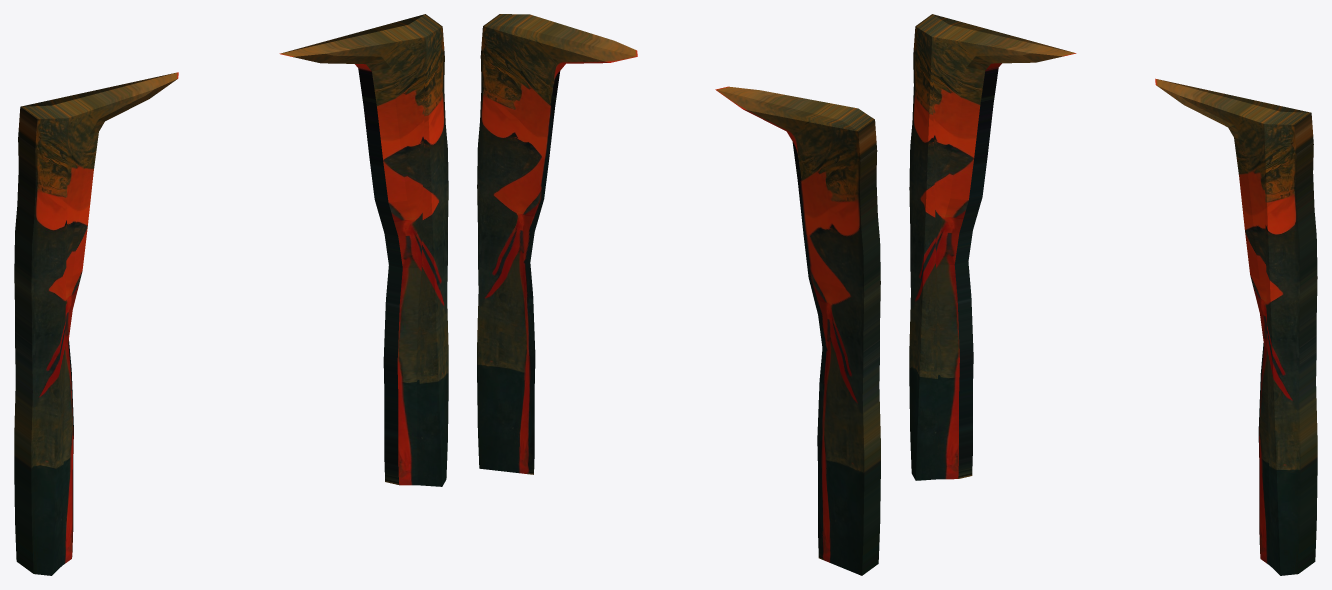
Rendered from arch2.glb.
3 views of the same model, side by side, from view 1: azimuth 30°, elevation 25°; view 2: azimuth 150°, elevation 25°; view 3: azimuth 330°, elevation 25° (orthographic). The views are drawn at different scales.
Parts seen in each view (by area): view 1: Arch-2; view 2: Arch-2; view 3: Arch-2.
Boxes of the visible parts, x1,y1,x2,y2 form: Arch-2: (14,14,448,575); Arch-2: (477,14,880,575); Arch-2: (909,14,1317,575).
Size of the model in its own units: 1.69 by 1.83 by 0.249.
1 material, 1 textured.
